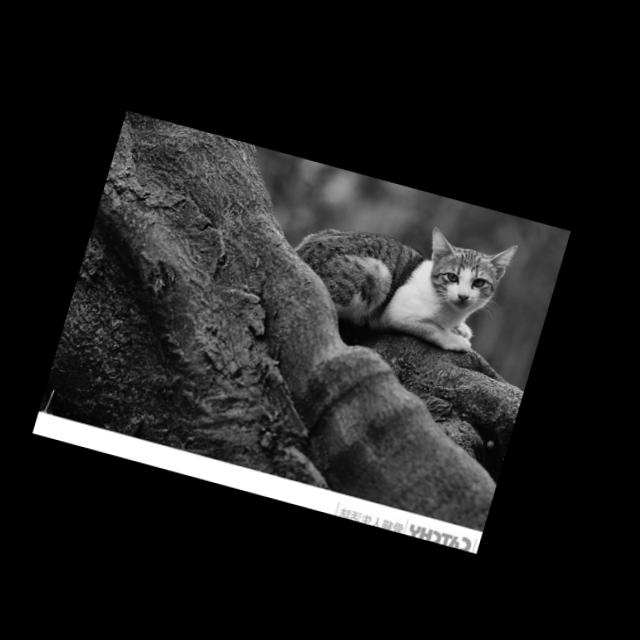animals: (422, 219, 520, 304)
